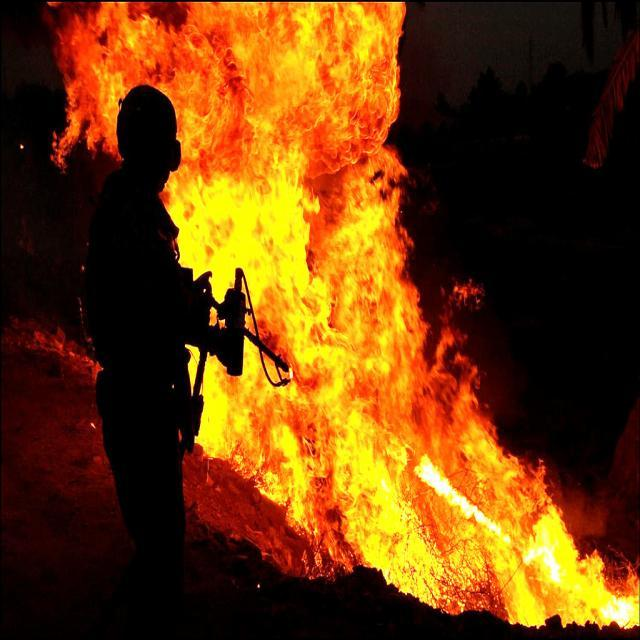Fire: (215, 386, 358, 486), (192, 184, 304, 277), (500, 522, 580, 621)
